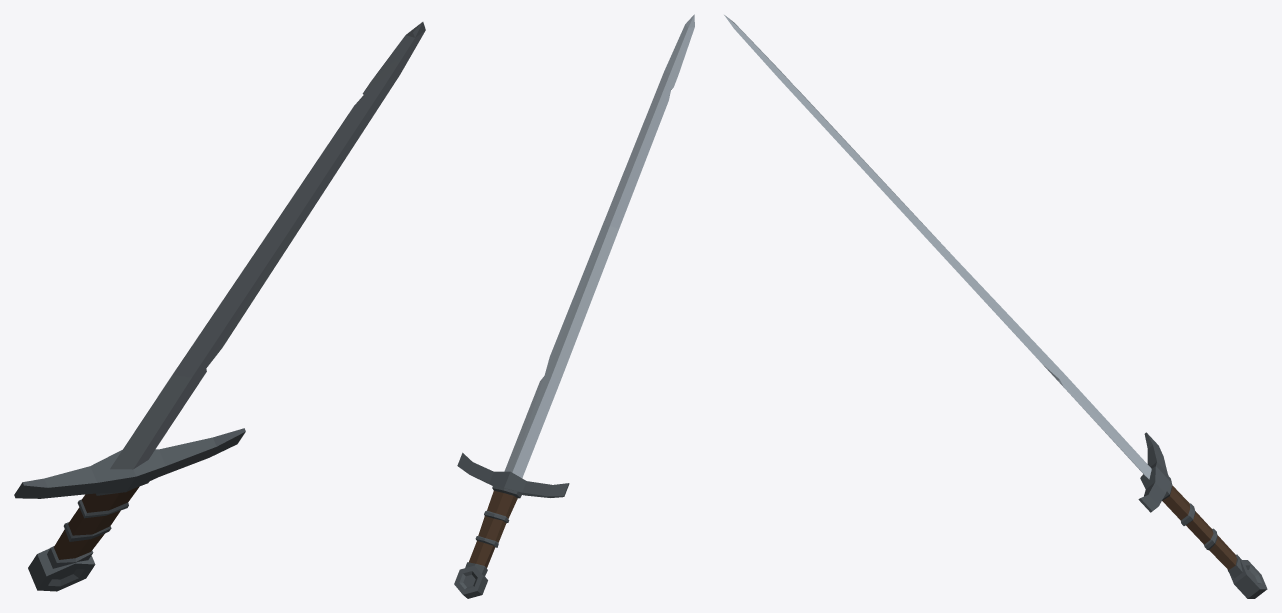
Rendered from fk-sword-06.glb.
The picture shows the model from 3 angles, left to right: view 1: azimuth 30°, elevation 25°; view 2: azimuth 150°, elevation 25°; view 3: azimuth 270°, elevation 25°; orthographic projection. The views are drawn at different scales.
Visible parts, largest first — view 1: fk-sword-06; view 2: fk-sword-06; view 3: fk-sword-06.
Boxes of the visible parts, box(x1,y1,x2,y2) form: fk-sword-06: box(14, 22, 425, 591); fk-sword-06: box(454, 14, 694, 598); fk-sword-06: box(724, 15, 1267, 598).
Size of the model in its own units: 0.3009 by 1.16 by 1.
Materials: 1 (1 with a texture image).
